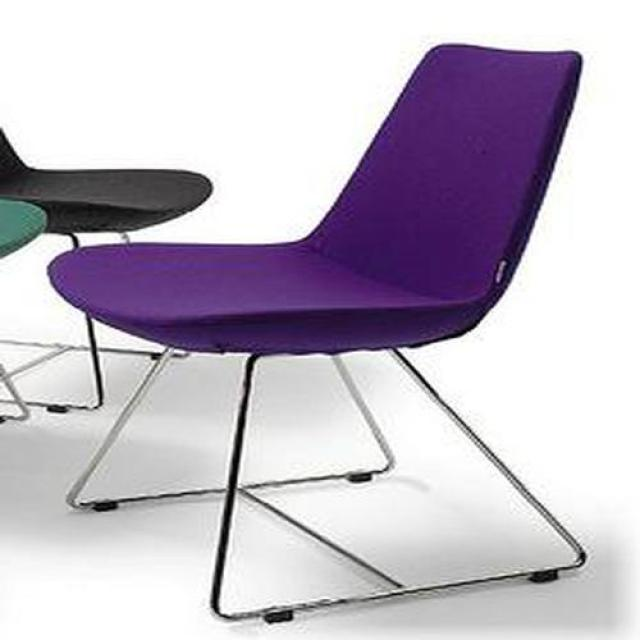chair: (46, 45, 588, 626)
